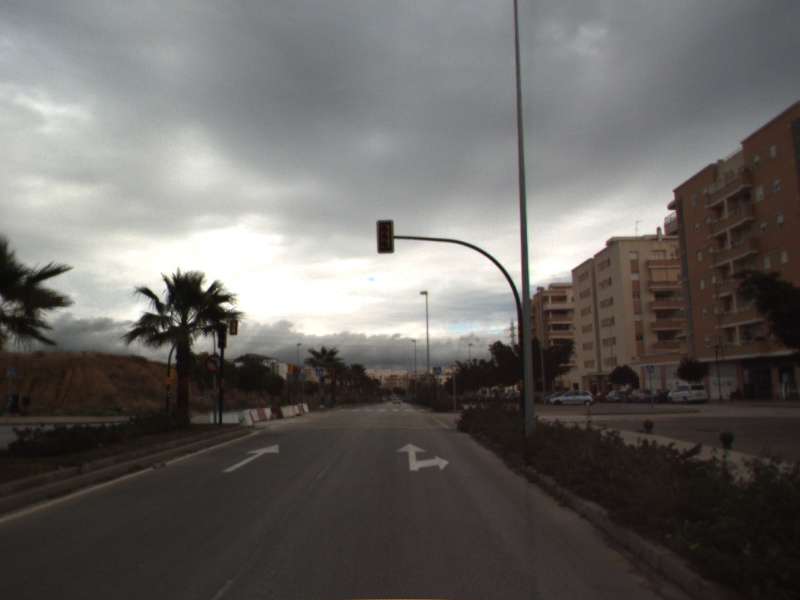STRAIGHT: (220, 442, 281, 474)
STRAIGHT_RIGHT: (394, 441, 451, 473)
